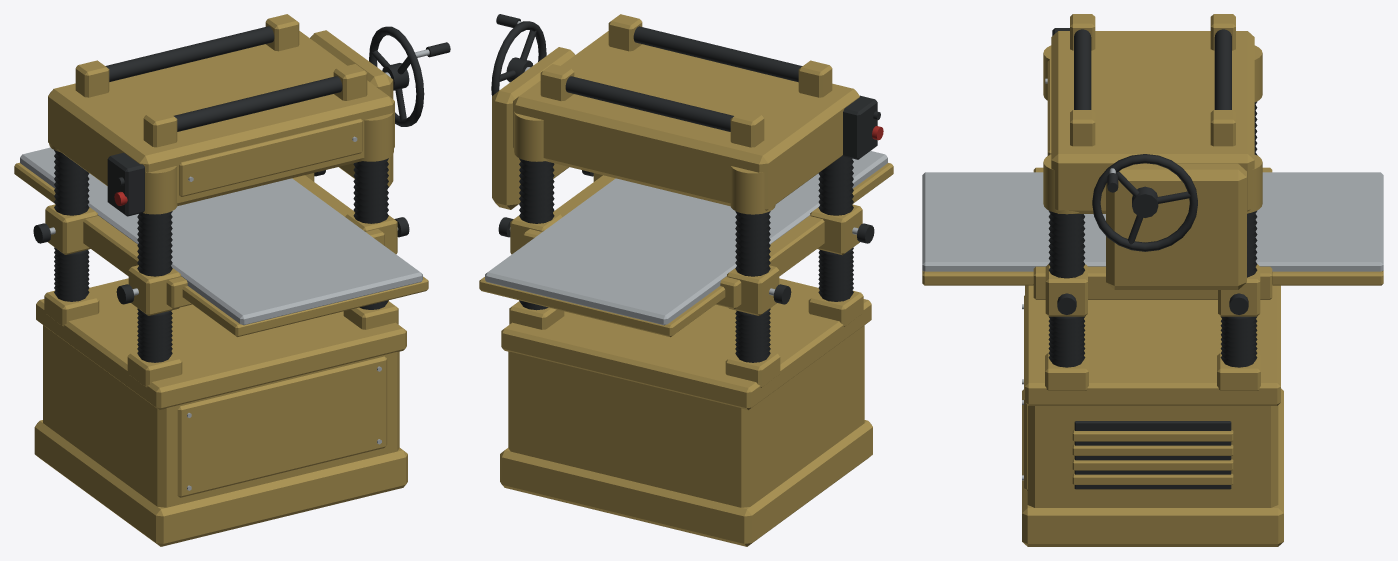
3 views of the same model, side by side, from view 1: azimuth 30°, elevation 25°; view 2: azimuth 150°, elevation 25°; view 3: azimuth 270°, elevation 25° (orthographic). The views are drawn at different scales.
Parts seen in each view (by area): view 1: Continuous steel feed bed, Wide overhead cutter housing, Front cabinet access panel, Upper cabinet support deck, Closed lower machine cabinet, Integral floor plinth, Front head service fascia, Front extension support apron, Upper stock return roller -0.18, Upper stock return roller 0.18, Bed side support rail -1, Upper column bellows (-0.33, -0.22) (+21 smaller); view 2: Closed lower machine cabinet, Wide overhead cutter housing, Continuous steel feed bed, Upper cabinet support deck, Integral floor plinth, Right transmission housing, Rear extension support apron, Upper stock return roller 0.18, Upper stock return roller -0.18, Bed side support rail -1, Upper column bellows (-0.33, 0.22), Upper column bellows (0.33, 0.22) (+19 smaller); view 3: Continuous steel feed bed, Wide overhead cutter housing, Upper cabinet support deck, Closed lower machine cabinet, Right transmission housing, Integral floor plinth, Right cabinet vent backing, Height handwheel rim, Bed side support rail 1, Upper column bellows (0.33, -0.22), Lower column bellows (0.33, -0.22), Lower column bellows (0.33, 0.22) (+20 smaller).
Part boxes in pixels (x1,y1,x2,y2): Continuous steel feed bed: (20, 147, 422, 325); Wide overhead cutter housing: (48, 31, 394, 213); Front cabinet access panel: (177, 356, 387, 497); Upper cabinet support deck: (36, 278, 406, 409); Closed lower machine cabinet: (43, 325, 399, 507); Integral floor plinth: (34, 420, 407, 546); Front head service fascia: (179, 118, 362, 196); Front extension support apron: (182, 276, 428, 337); Upper stock return roller -0.18: (174, 76, 342, 131); Upper stock return roller 0.18: (105, 26, 274, 81); Bed side support rail -1: (83, 215, 191, 308); Upper column bellows (-0.33, -0.22): (137, 211, 172, 276); Closed lower machine cabinet: (508, 325, 864, 507); Wide overhead cutter housing: (513, 31, 859, 213); Continuous steel feed bed: (485, 151, 887, 325); Upper cabinet support deck: (501, 278, 871, 410); Integral floor plinth: (500, 420, 872, 546); Right transmission housing: (492, 47, 574, 209); Rear extension support apron: (479, 277, 725, 337); Upper stock return roller 0.18: (565, 76, 733, 131); Upper stock return roller -0.18: (633, 26, 802, 82); Bed side support rail -1: (716, 215, 824, 309); Upper column bellows (-0.33, 0.22): (735, 211, 770, 276); Upper column bellows (0.33, 0.22): (519, 158, 554, 223); Continuous steel feed bed: (922, 172, 1383, 271); Wide overhead cutter housing: (1051, 31, 1254, 213); Upper cabinet support deck: (1025, 285, 1280, 405); Closed lower machine cabinet: (1027, 405, 1278, 507); Right transmission housing: (1106, 163, 1246, 289); Integral floor plinth: (1022, 388, 1283, 546); Right cabinet vent backing: (1074, 421, 1231, 489); Height handwheel rim: (1092, 154, 1197, 251); Bed side support rail 1: (1033, 266, 1272, 299); Upper column bellows (0.33, -0.22): (1048, 210, 1085, 278); Lower column bellows (0.33, -0.22): (1048, 316, 1085, 367); Lower column bellows (0.33, 0.22): (1220, 316, 1257, 367).
Size of the model in its own units: 109 by 118 by 118.
